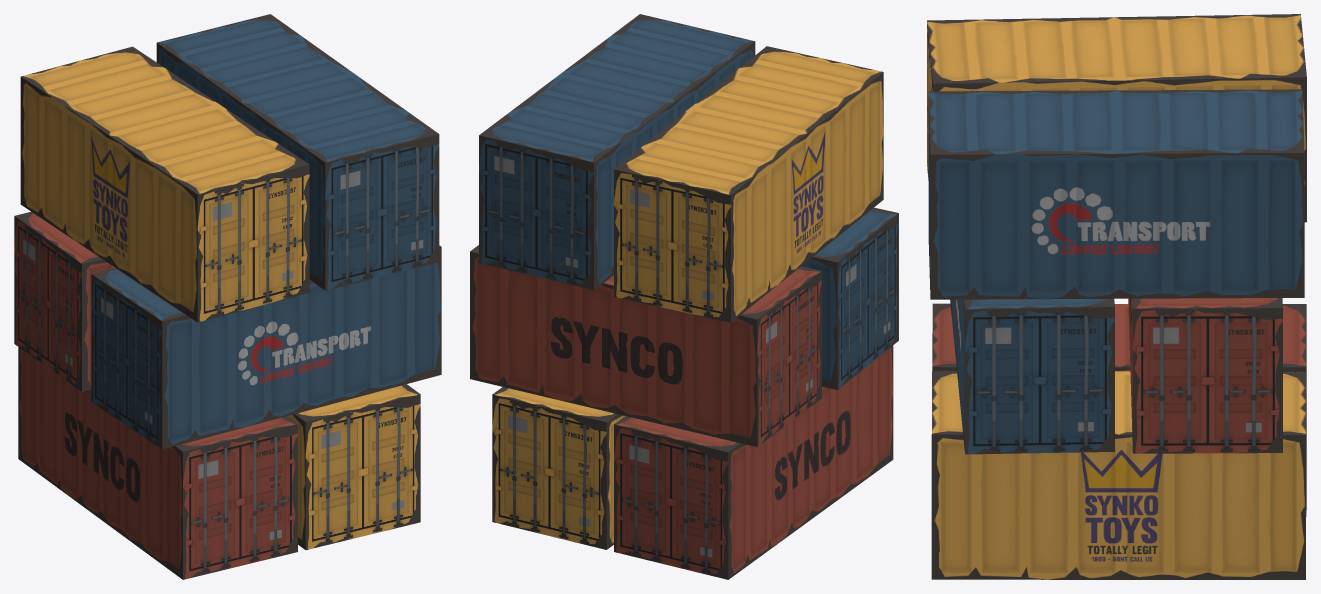
File: SM_Prop_Container_Stack_11.fbx
3 renders of one model, left to right at view 1: azimuth 30°, elevation 25°; view 2: azimuth 150°, elevation 25°; view 3: azimuth 270°, elevation 25°, orthographic. The views are drawn at different scales.
Visible parts, largest first — view 1: SM_Prop_Container_Stack_11; view 2: SM_Prop_Container_Stack_11; view 3: SM_Prop_Container_Stack_11.
Boxes of the visible parts, x1,y1,x2,y2 form: SM_Prop_Container_Stack_11: (14, 14, 441, 579); SM_Prop_Container_Stack_11: (470, 14, 898, 579); SM_Prop_Container_Stack_11: (927, 14, 1306, 579).
Size of the model in its own units: 615 by 777 by 615.
